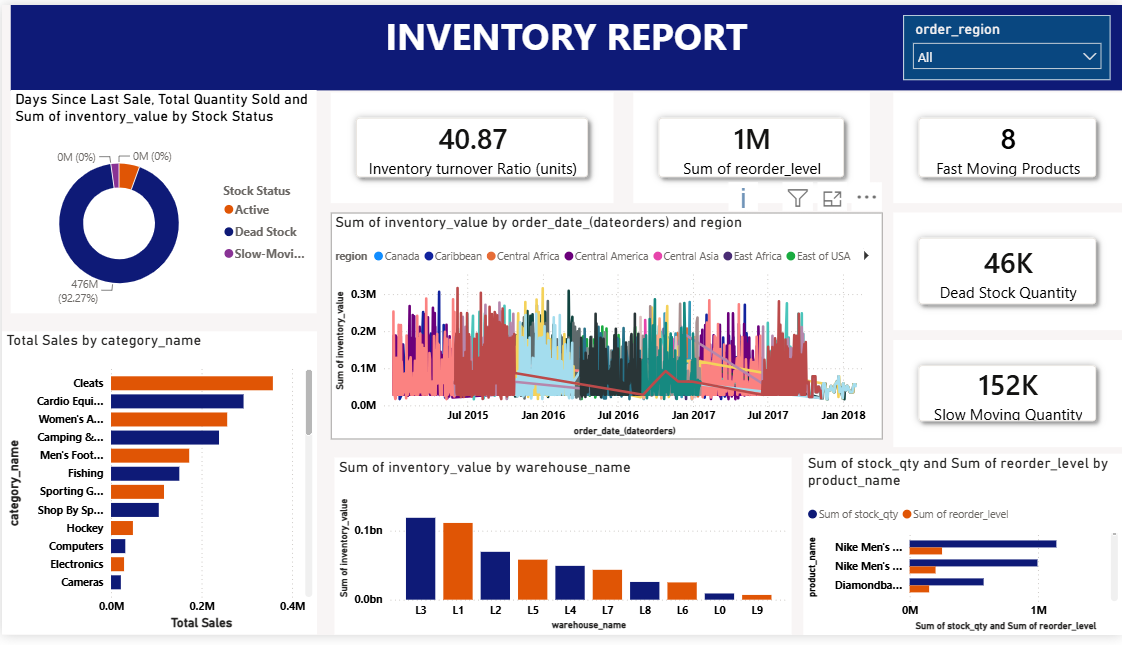

Layout of this report page (visuals, bound fields, positions):
{"tool":"powerbi","page":{"name":"Page 2","canvas":[1280,720],"ordinal":1},"visuals":[{"type":"textbox","box":[9.9,0,1270.1,97.8],"z":0},{"type":"cardVisual","fields":{"Data":["Fact_table.Dead Stock Quantity"]},"box":[1018.1,237.1,262,134.3],"z":1000},{"type":"cardVisual","fields":{"Data":["Fact_table.Slow Moving Quantity"]},"box":[1018.1,383,262,122.7],"z":2000},{"type":"cardVisual","fields":{"Data":["Sum(Fact_table.reorder_level)"]},"box":[721.3,99.5,270.3,126],"z":3000},{"type":"columnChart","fields":{"Y":["Sum(Fact_table.inventory_value)"],"Category":["Dim_Warehouse.warehouse_name"]},"box":[379.7,517.3,522.3,202.3],"z":4000},{"type":"clusteredBarChart","fields":{"Y":["Sum(Fact_table.stock_qty)","Sum(Fact_table.reorder_level)"],"Category":["Fact_table.product_name"]},"box":[915.3,512.4,364.8,207.3],"z":5000},{"type":"clusteredBarChart","fields":{"Y":["Fact_table.Total Sales"],"Category":["Fact_table.category_name"]},"box":[0,373.1,359.8,346.5],"z":6000},{"type":"lineChart","fields":{"Y":["Sum(Fact_table.inventory_value)"],"Category":["Fact_table.order_date_(dateorders)"],"Series":["Fact_table.region"]},"box":[376.4,237.1,630.1,260.3],"z":7000},{"type":"donutChart","fields":{"Y":["Fact_table.Days Since Last Sale","Fact_table.Total Quantity Sold","Sum(Fact_table.inventory_value)"],"Category":["Fact_table.Stock Status"]},"box":[9.9,97.8,349.9,255.3],"z":8000},{"type":"cardVisual","fields":{"Data":["Fact_table.Inventory turnover Ratio (units)"]},"box":[376.4,99.5,323.3,126],"z":9000},{"type":"cardVisual","fields":{"Data":["Fact_table.Fast Moving Products"]},"box":[1018.1,99.5,262,126],"z":10000},{"type":"slicer","fields":{"Values":["Dim_location.order_region"]},"box":[1029.7,11.6,237.1,74.6],"z":11000}]}

Visuals, with their boxes in screenshot pixels (x1, y1, x2, y2), scaled from the page's 1280x720 canvas onto the 1122x645 screenshot:
textbox: locate(9, 0, 1121, 88)
cardVisual - Fact_table.Dead Stock Quantity: locate(892, 212, 1121, 333)
cardVisual - Fact_table.Slow Moving Quantity: locate(892, 343, 1121, 453)
cardVisual - Sum(Fact_table.reorder_level): locate(632, 89, 869, 202)
columnChart - Sum(Fact_table.inventory_value) x Dim_Warehouse.warehouse_name: locate(333, 463, 791, 644)
clusteredBarChart - Sum(Fact_table.stock_qty) x Sum(Fact_table.reorder_level): locate(802, 459, 1121, 644)
clusteredBarChart - Fact_table.Total Sales x Fact_table.category_name: locate(0, 334, 315, 644)
lineChart - Sum(Fact_table.inventory_value) x Fact_table.order_date_(dateorders): locate(330, 212, 882, 446)
donutChart - Fact_table.Days Since Last Sale x Fact_table.Total Quantity Sold: locate(9, 88, 315, 316)
cardVisual - Fact_table.Inventory turnover Ratio (units): locate(330, 89, 613, 202)
cardVisual - Fact_table.Fast Moving Products: locate(892, 89, 1121, 202)
slicer - Dim_location.order_region: locate(903, 10, 1110, 77)
